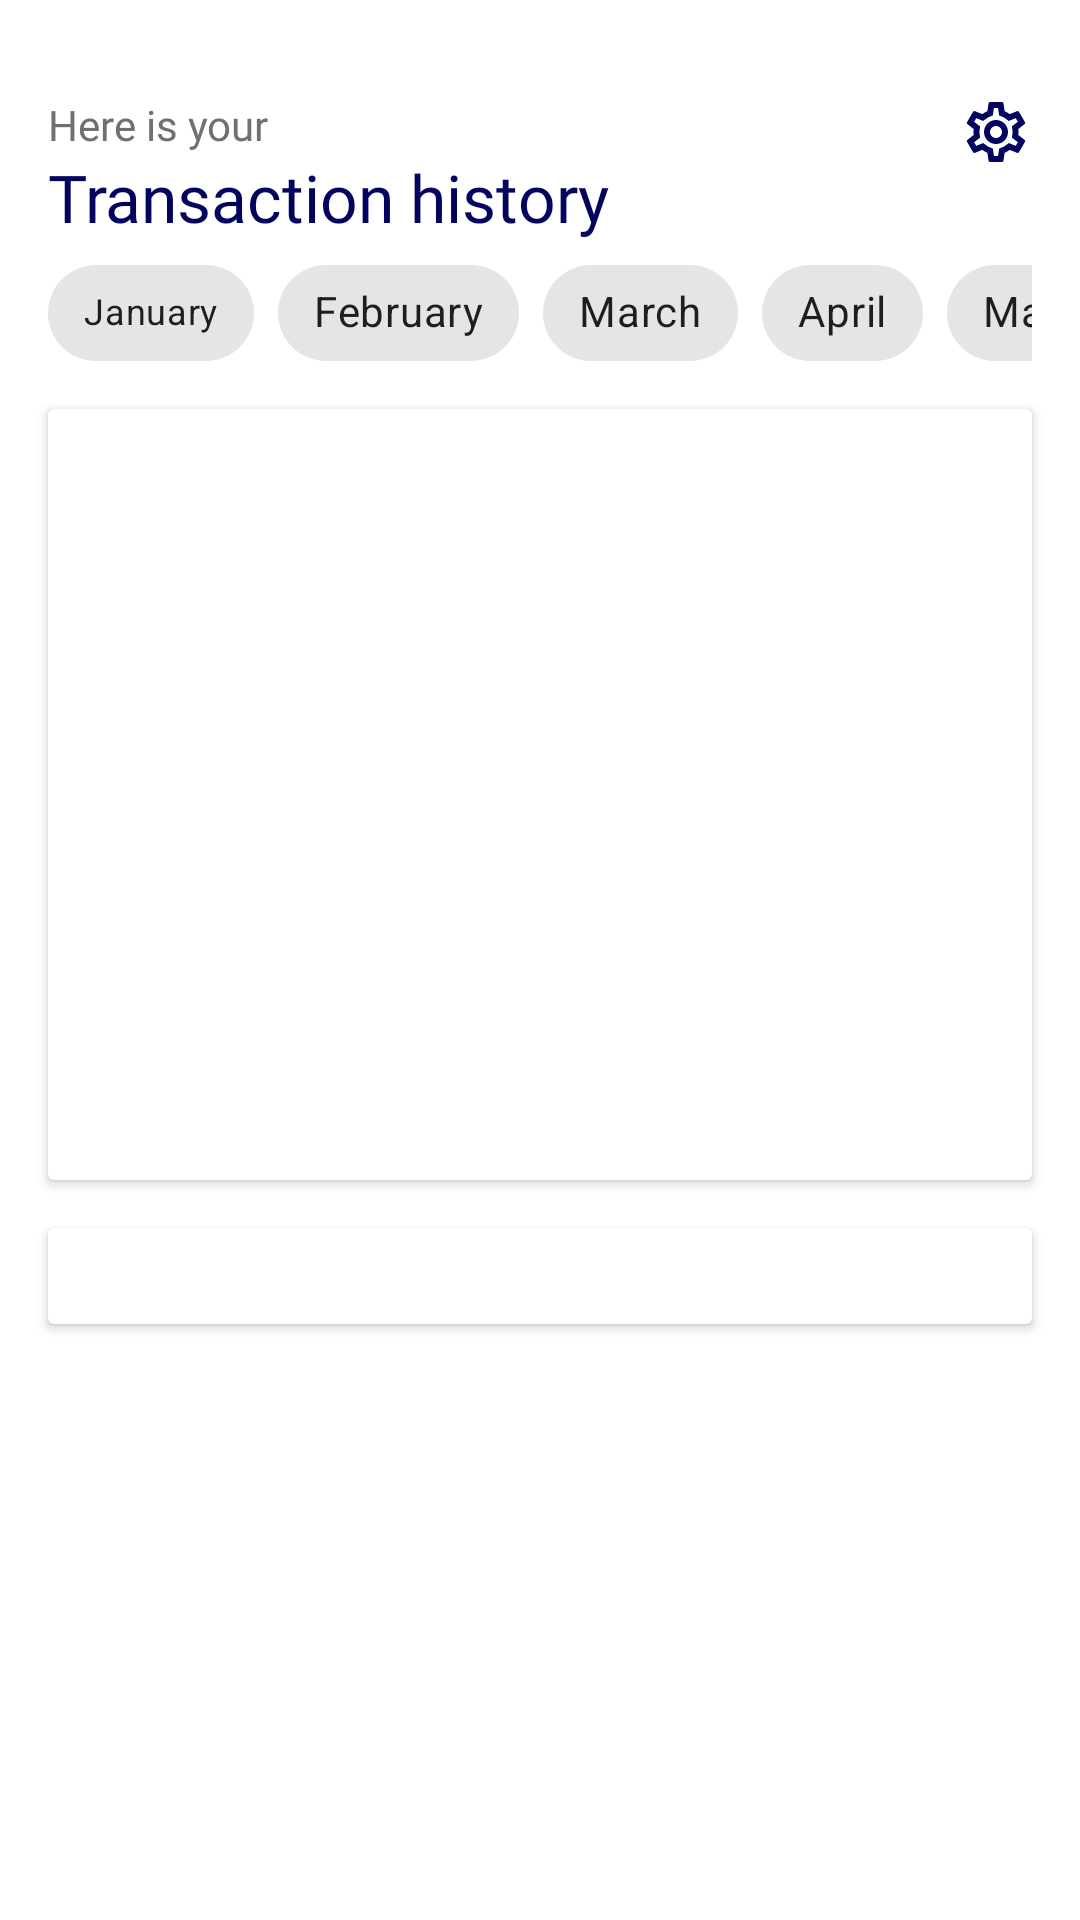

Icons on this 1080x1920 Android screen, each with the point to tap as (x=x, y=y):
settings: (x=995, y=132)
